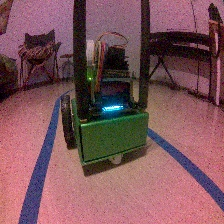rob: (60, 40, 149, 165)
